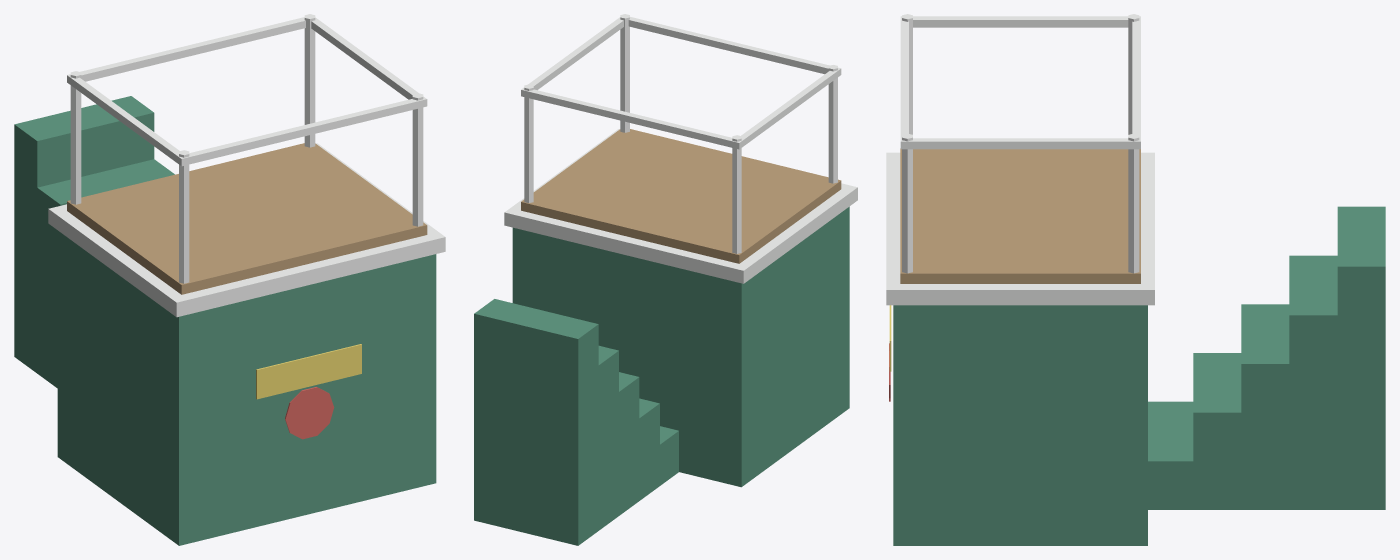
File: scenery-starters-rostrum.glb
The picture shows the model from 3 angles, left to right: view 1: azimuth 30°, elevation 25°; view 2: azimuth 150°, elevation 25°; view 3: azimuth 270°, elevation 25°; orthographic projection. The views are drawn at different scales.
Visible parts, largest first — view 1: starters-rostrum; view 2: starters-rostrum; view 3: starters-rostrum.
Boxes of the visible parts, bbox=[...] form: starters-rostrum: bbox=[14, 14, 445, 545]; starters-rostrum: bbox=[474, 14, 857, 545]; starters-rostrum: bbox=[886, 14, 1385, 545].
Size of the model in its own units: 2.3 by 3.15 by 3.53.
